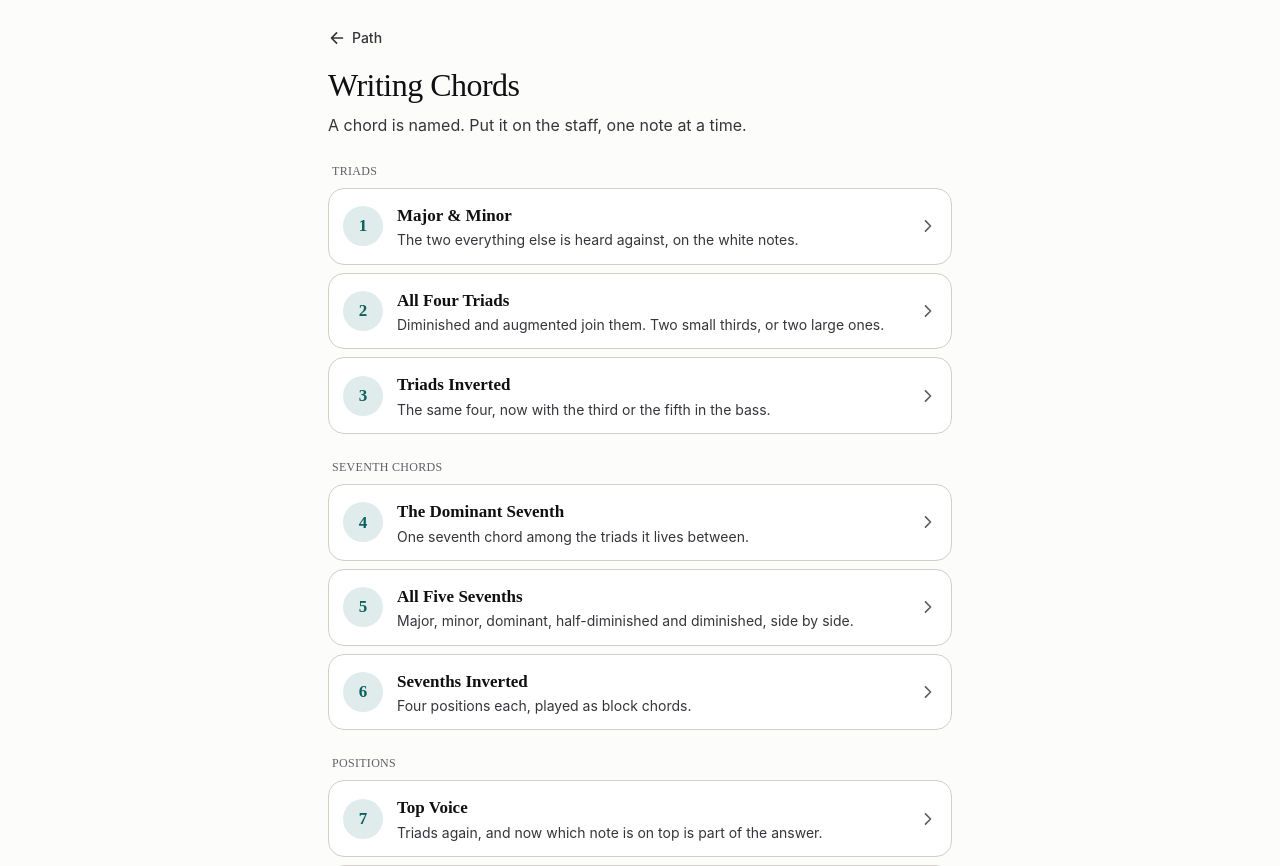
it: writing chords › names the chord in the prompt and gives the note keys
The image size is (1280, 866).
Expected: the text "Major & Minor" is shown, x1=397 y1=206 x2=512 y2=225
Click the button "Major & Minor". click: (363, 226)
box: x1=328 y1=188 x2=952 y2=265
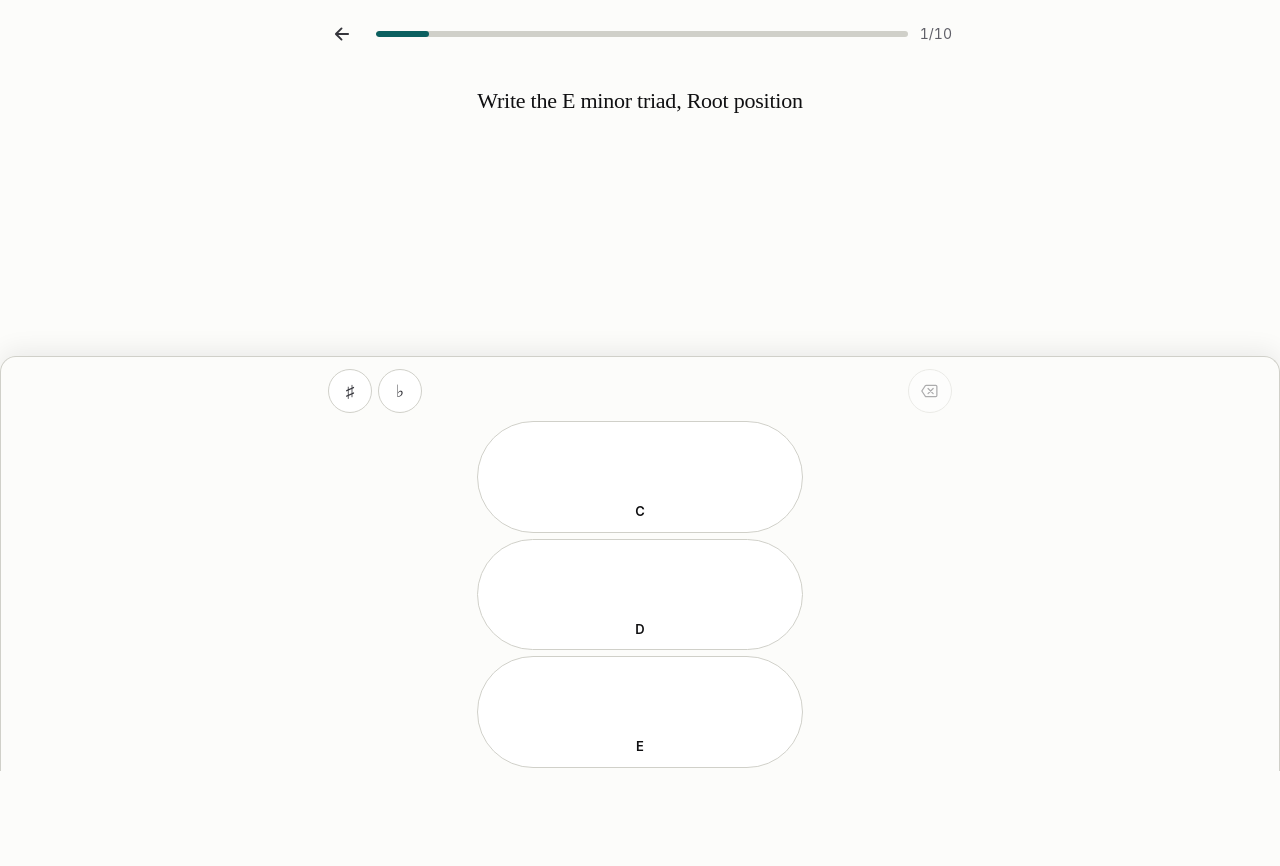
Expected: the heading "Write the E minor triad, Root position" is shown, x1=477 y1=88 x2=803 y2=114
Expected: the button named "Raise the next note" is shown, x1=328 y1=369 x2=372 y2=413
Expected: the button named "Lower the next note" is shown, x1=378 y1=369 x2=422 y2=413
